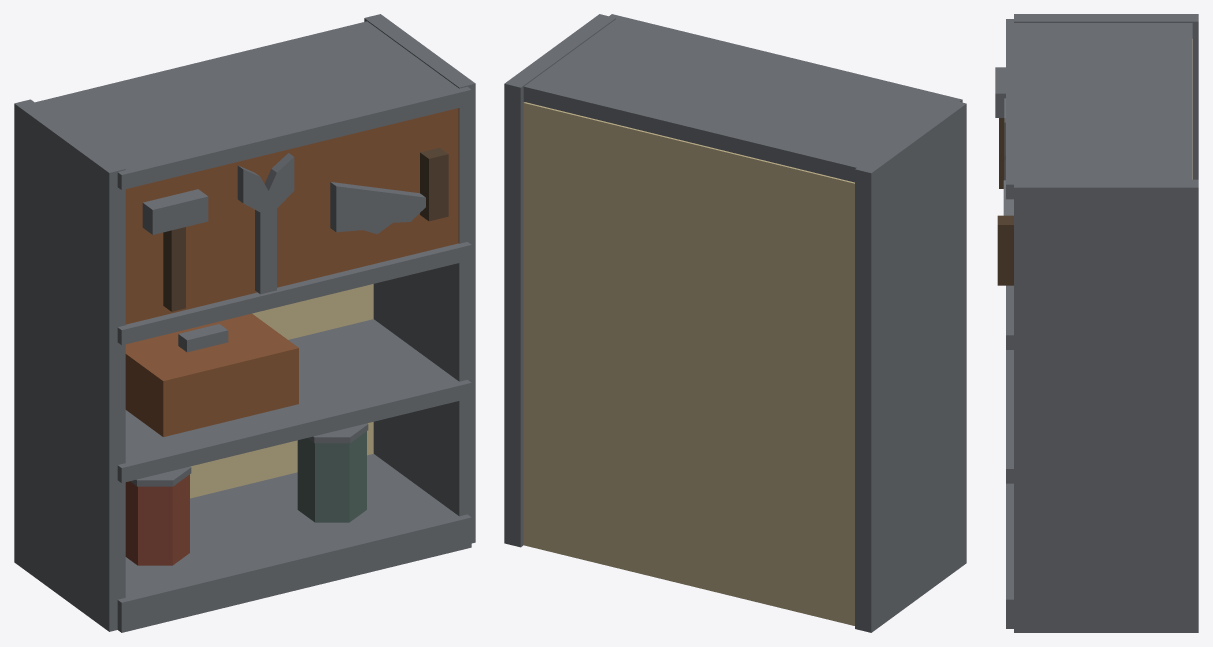
The model's file is prop-hardware-shelf.glb.
3 renders of one model, left to right at view 1: azimuth 30°, elevation 25°; view 2: azimuth 150°, elevation 25°; view 3: azimuth 270°, elevation 25°, orthographic. The views are drawn at different scales.
Visible parts, largest first — view 1: hardware_shelf; view 2: hardware_shelf; view 3: hardware_shelf.
Boxes of the visible parts, box(x1,y1,x2,y2) form: hardware_shelf: box(14, 14, 475, 632); hardware_shelf: box(504, 14, 966, 632); hardware_shelf: box(995, 14, 1198, 632).
Bounding box in the file's own units: 0.89 × 1.07 × 0.44.
